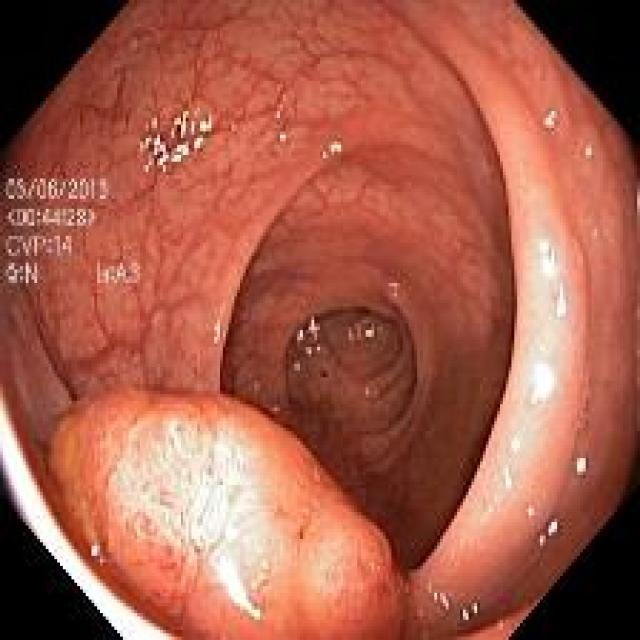Polyps: (49, 389, 406, 640)
